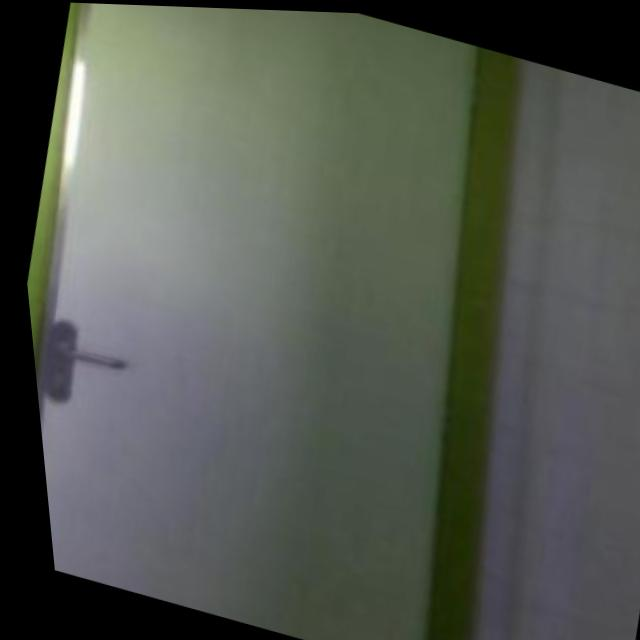door_handle: (25, 324, 133, 388)
